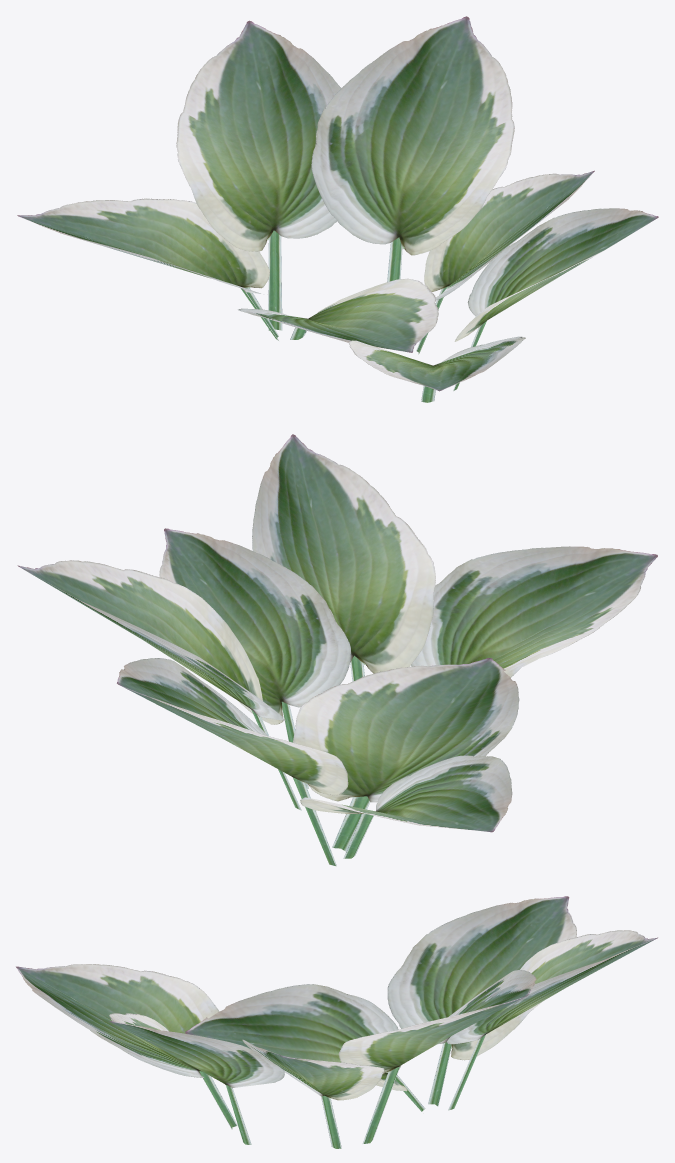
File: plant_small_wg_04T.fbx
The picture shows the model from 3 angles, top to bottom: view 1: azimuth 30°, elevation 25°; view 2: azimuth 150°, elevation 25°; view 3: azimuth 270°, elevation 25°; orthographic projection. The views are drawn at different scales.
Visible parts, largest first — view 1: plant_small_wg_04T; view 2: plant_small_wg_04T; view 3: plant_small_wg_04T.
Part boxes in pixels (x1,y1,x2,y2): plant_small_wg_04T: (17, 16, 658, 402); plant_small_wg_04T: (17, 434, 657, 866); plant_small_wg_04T: (16, 896, 657, 1148).
Bounding box in the file's own units: 112 × 56.49 × 147.
